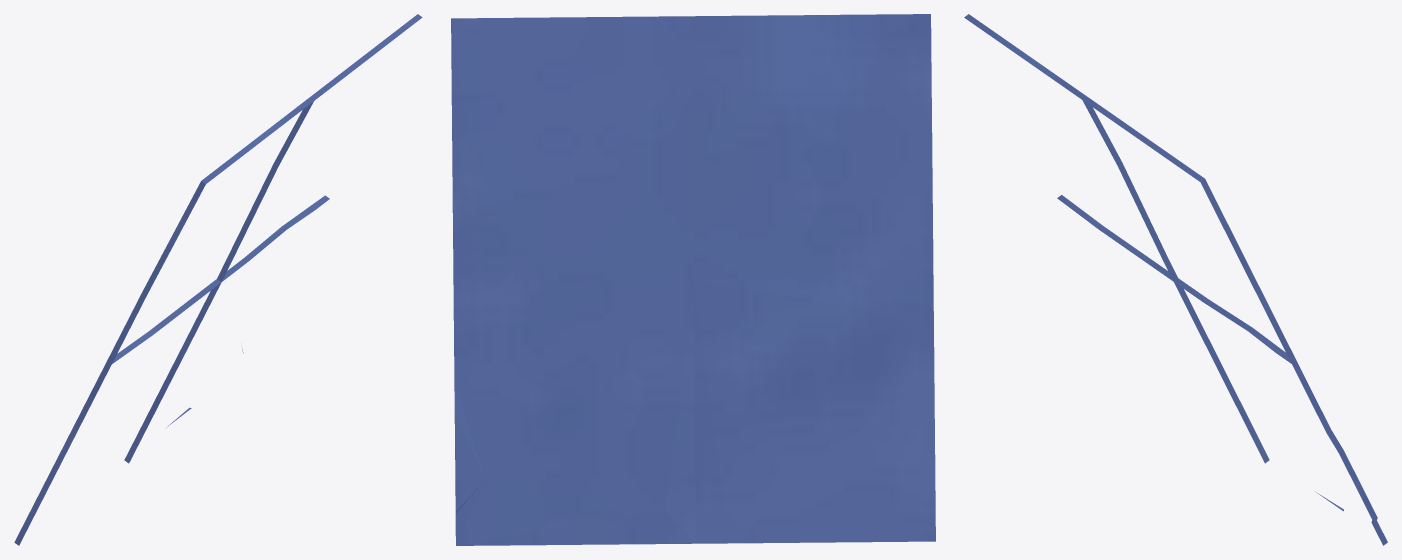
3 renders of one model, left to right at view 1: azimuth 30°, elevation 25°; view 2: azimuth 150°, elevation 25°; view 3: azimuth 270°, elevation 25°, orthographic. The views are drawn at different scales.
Bounding box in the file's own units: 9832 × 8881 × 8263.
Materials: 1 (1 with a texture image).
